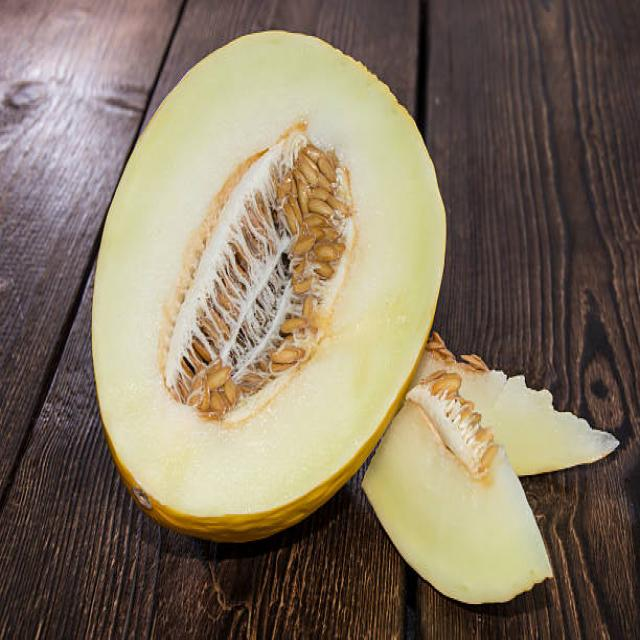melon: (90, 26, 394, 539), (382, 382, 554, 609)
